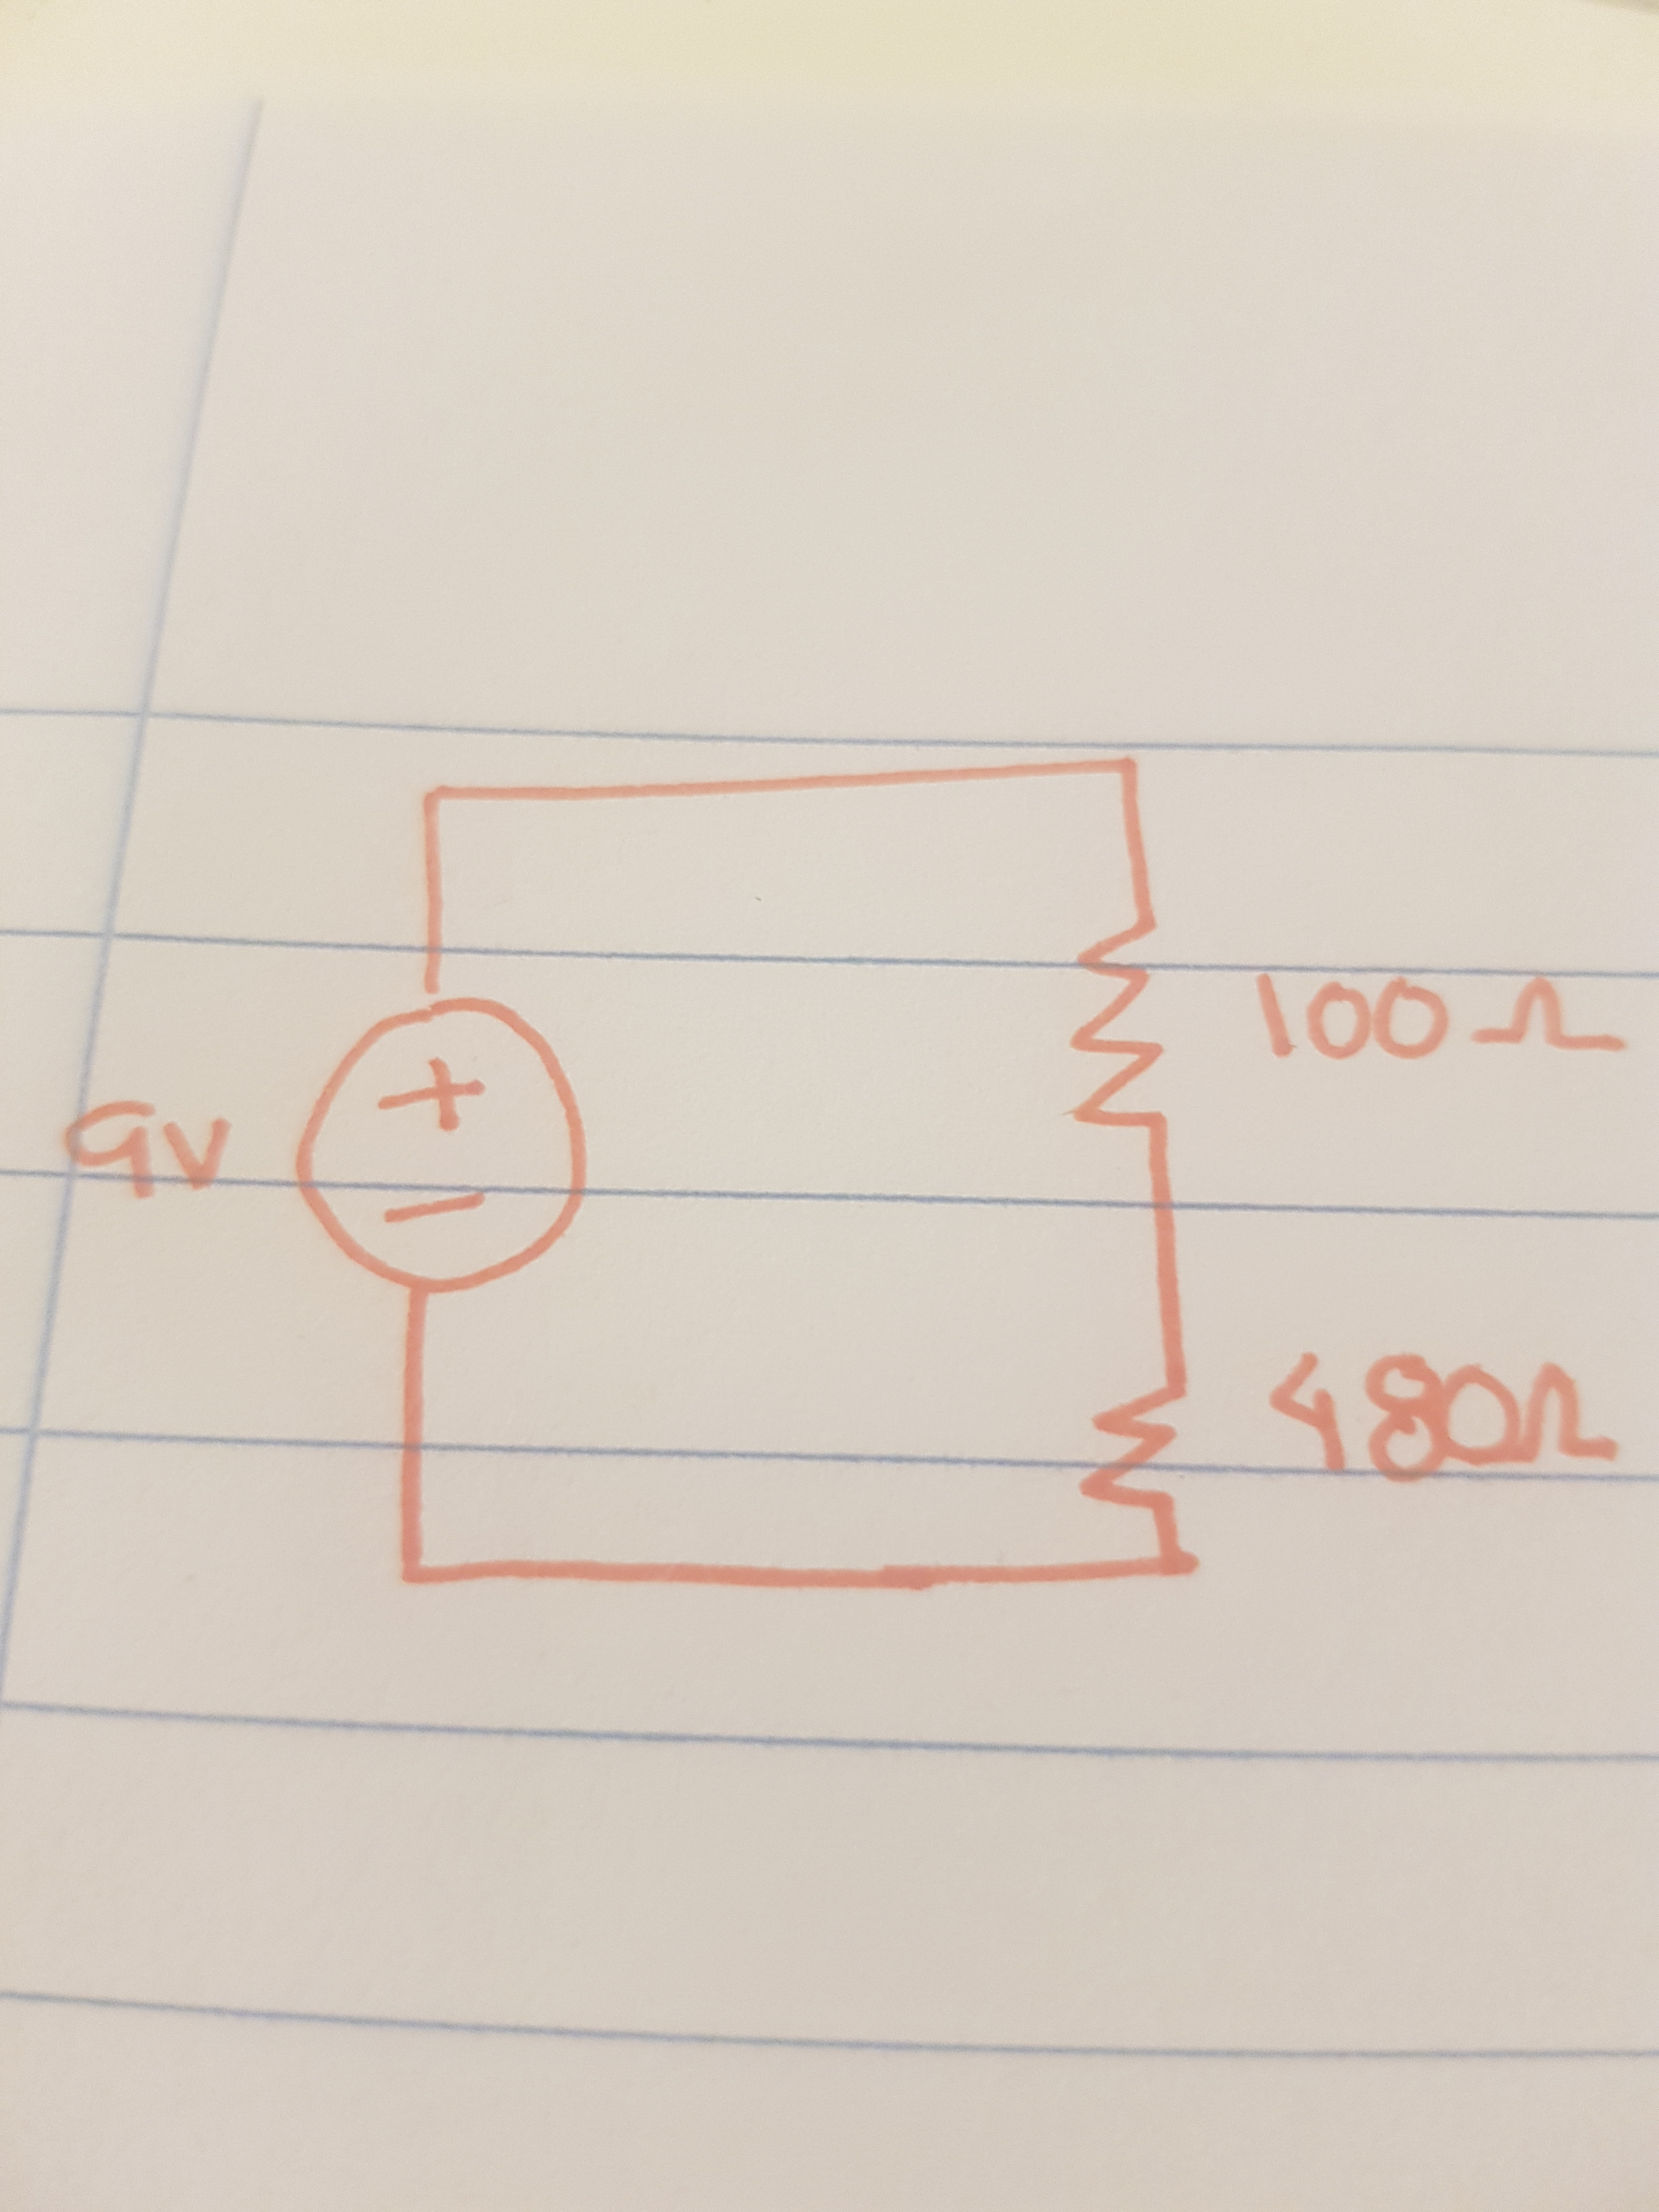junction: (369, 1522, 450, 1615), (394, 761, 476, 833), (1087, 733, 1162, 796), (1145, 1540, 1211, 1592)
resistor: (1060, 909, 1192, 1151), (1070, 1379, 1204, 1512)
text: (1258, 1339, 1633, 1484), (1239, 951, 1636, 1073), (58, 1089, 246, 1202)
voltage.dc: (274, 984, 603, 1313)
